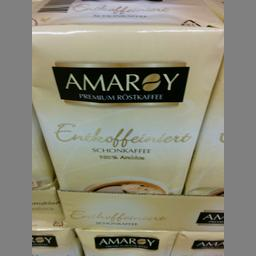coffee: (32, 0, 222, 193)
